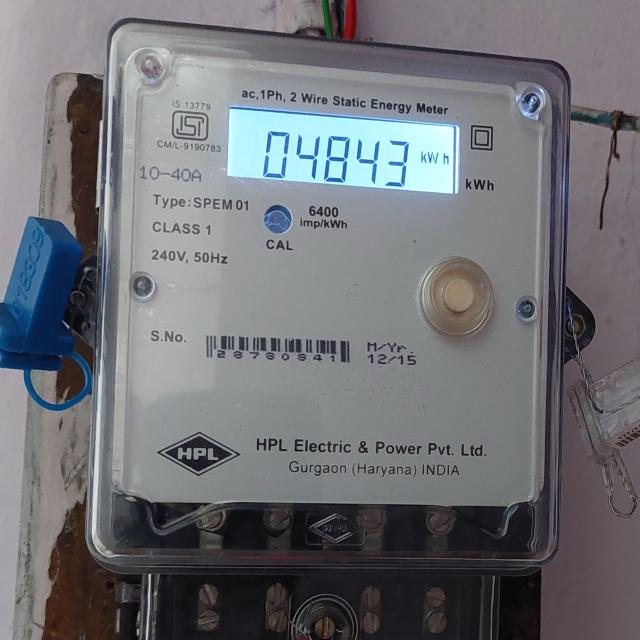display: (224, 102, 466, 198)
